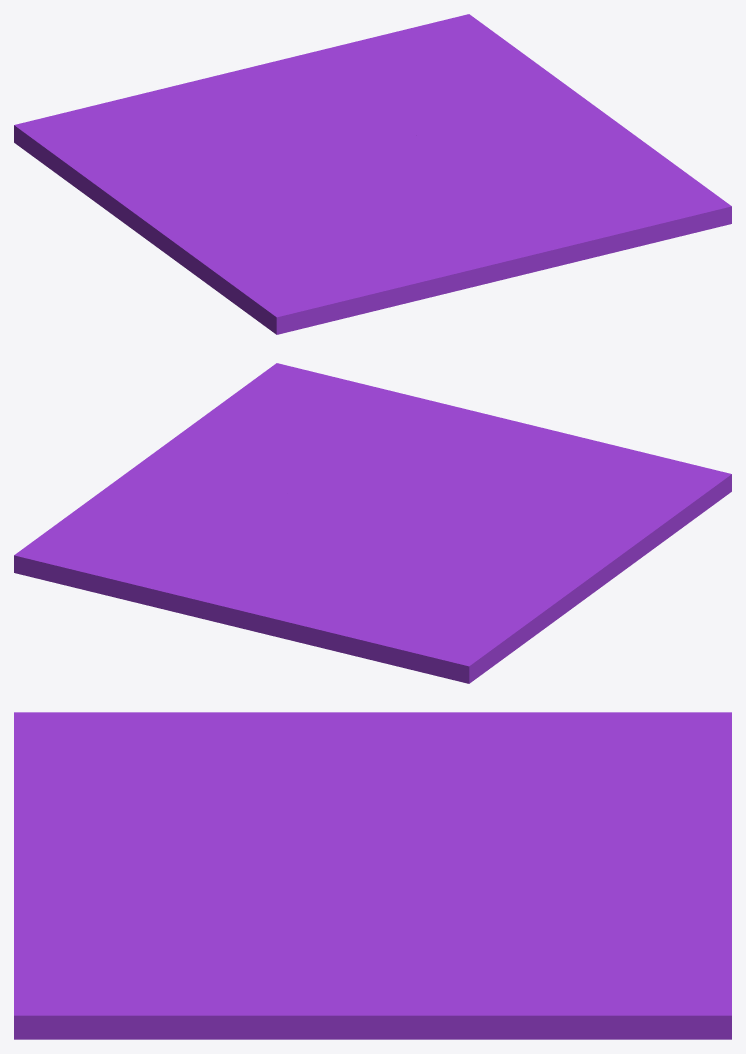
Rendered from Platform_55_chunks.fbx.
3 views of the same model, one above another, from view 1: azimuth 30°, elevation 25°; view 2: azimuth 150°, elevation 25°; view 3: azimuth 270°, elevation 25° (orthographic). The views are drawn at different scales.
Parts seen in each view (by area): view 1: Platform_55_3, Platform_55_7, Platform_55_11, Platform_55_12, Platform_55_1, Platform_55_5, Platform_55_8, Platform_55_9, Platform_55_4, Platform_55_2, Platform_55_6; view 2: Platform_55_12, Platform_55_11, Platform_55_3, Platform_55_1, Platform_55_7, Platform_55_8, Platform_55_5, Platform_55_9, Platform_55_4, Platform_55_2, Platform_55_6; view 3: Platform_55_7, Platform_55_11, Platform_55_3, Platform_55_12, Platform_55_8, Platform_55_1, Platform_55_5, Platform_55_9, Platform_55_4, Platform_55_2, Platform_55_6.
Boxes of the visible parts, x1,y1,x2,y2 form: Platform_55_3: (188,211,459,334); Platform_55_7: (511,119,731,261); Platform_55_11: (266,14,521,119); Platform_55_12: (14,63,294,171); Platform_55_1: (54,157,300,274); Platform_55_5: (375,160,582,280); Platform_55_8: (449,53,611,169); Platform_55_9: (211,107,436,167); Platform_55_4: (275,164,466,237); Platform_55_2: (385,227,499,307); Platform_55_6: (385,110,462,162); Platform_55_12: (217,572,513,683); Platform_55_11: (14,514,291,623); Platform_55_3: (494,429,731,551); Platform_55_1: (419,518,649,654); Platform_55_7: (157,363,425,461); Platform_55_8: (68,450,321,516); Platform_55_5: (313,399,508,512); Platform_55_9: (246,513,446,578); Platform_55_4: (376,444,501,550); Platform_55_2: (473,419,547,479); Platform_55_6: (222,483,355,514); Platform_55_7: (14,916,364,1039); Platform_55_11: (459,865,731,1039); Platform_55_3: (14,712,295,834); Platform_55_12: (510,712,731,880); Platform_55_8: (266,911,599,1039); Platform_55_1: (256,712,609,815); Platform_55_5: (14,861,379,929); Platform_55_9: (367,785,589,927); Platform_55_4: (108,797,443,863); Platform_55_2: (14,827,191,861); Platform_55_6: (320,873,475,939).
Bounding box in the file's own units: 810 × 29.87 × 810.
